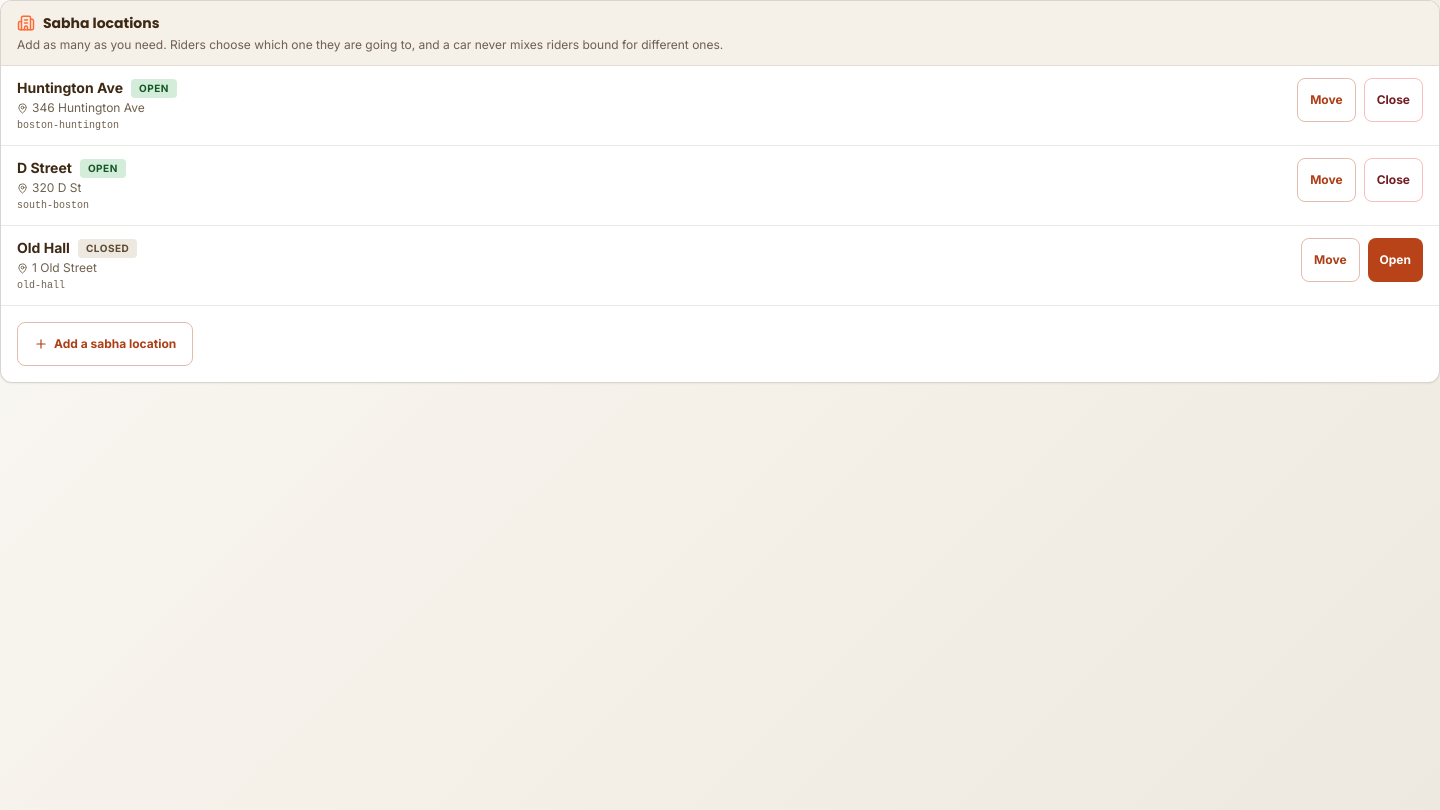
Scenario: HallManagement — opening and closing › does not write when the preview itself fails
The width and height of the screenshot is (1440, 810).
Click the button "Close" in the row of "320 D St" at {"x": 1393, "y": 180}, box [1364, 158, 1423, 202]
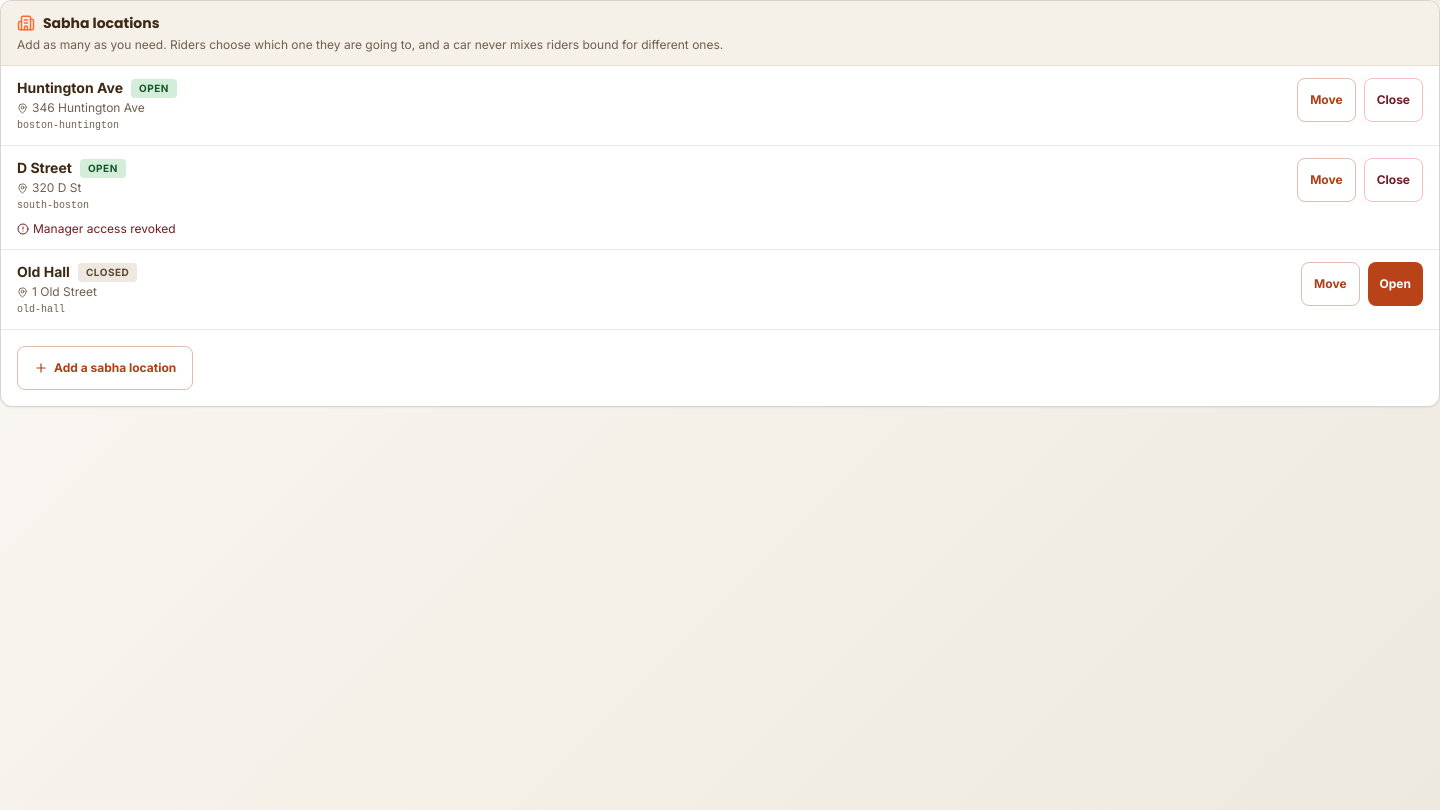
Expected: the text "Manager access revoked" is shown, [17, 221, 176, 236]
